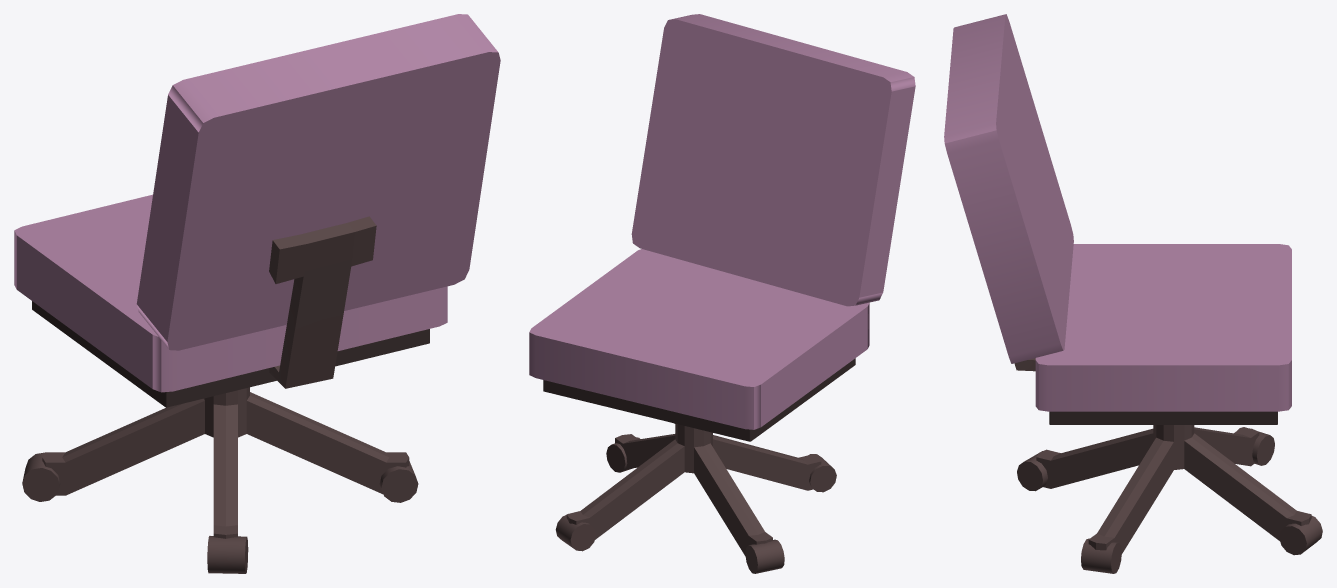
Rendered from Offiice_Chair.fbx.
3 renders of one model, left to right at view 1: azimuth 30°, elevation 25°; view 2: azimuth 150°, elevation 25°; view 3: azimuth 270°, elevation 25°, orthographic. The views are drawn at different scales.
Parts seen in each view (by area): view 1: Office_Chair; view 2: Office_Chair; view 3: Office_Chair.
Part boxes in pixels (x1,y1,x2,y2): Office_Chair: (14, 14, 500, 573); Office_Chair: (529, 14, 915, 573); Office_Chair: (944, 14, 1322, 573).
Size of the model in its own units: 76.44 by 125 by 95.71.
